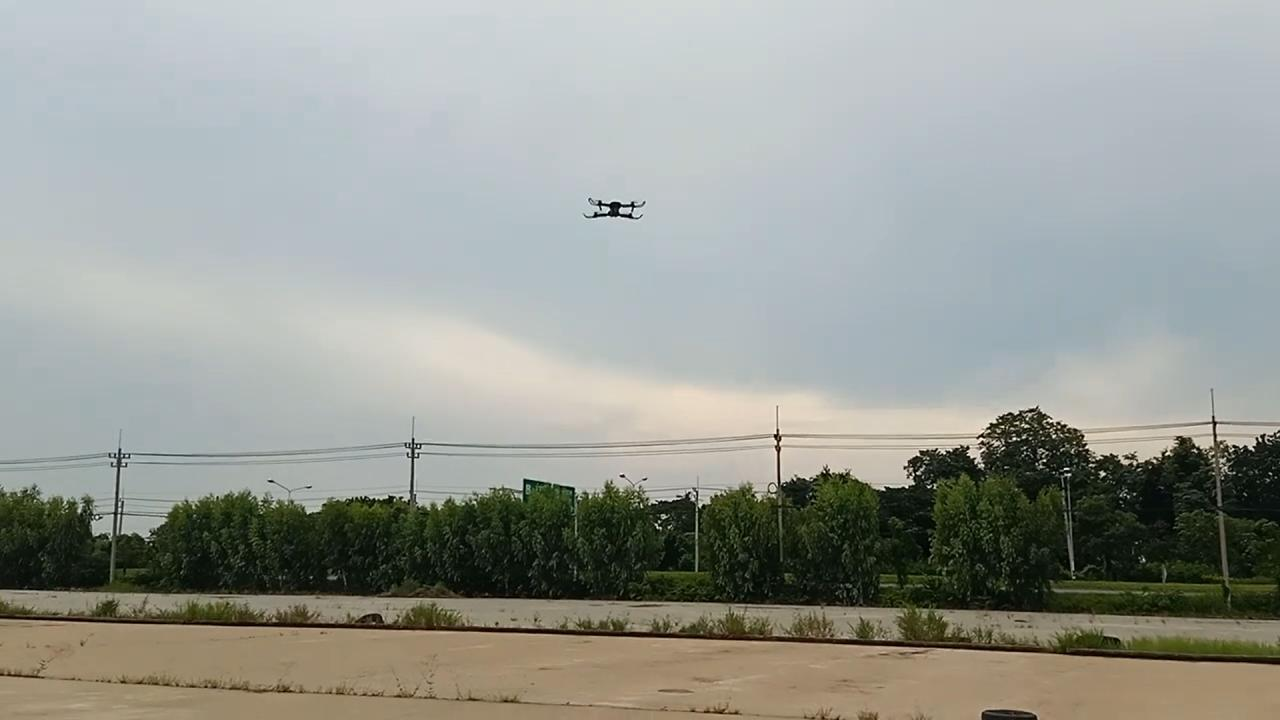Drone: (575, 183, 654, 234)
